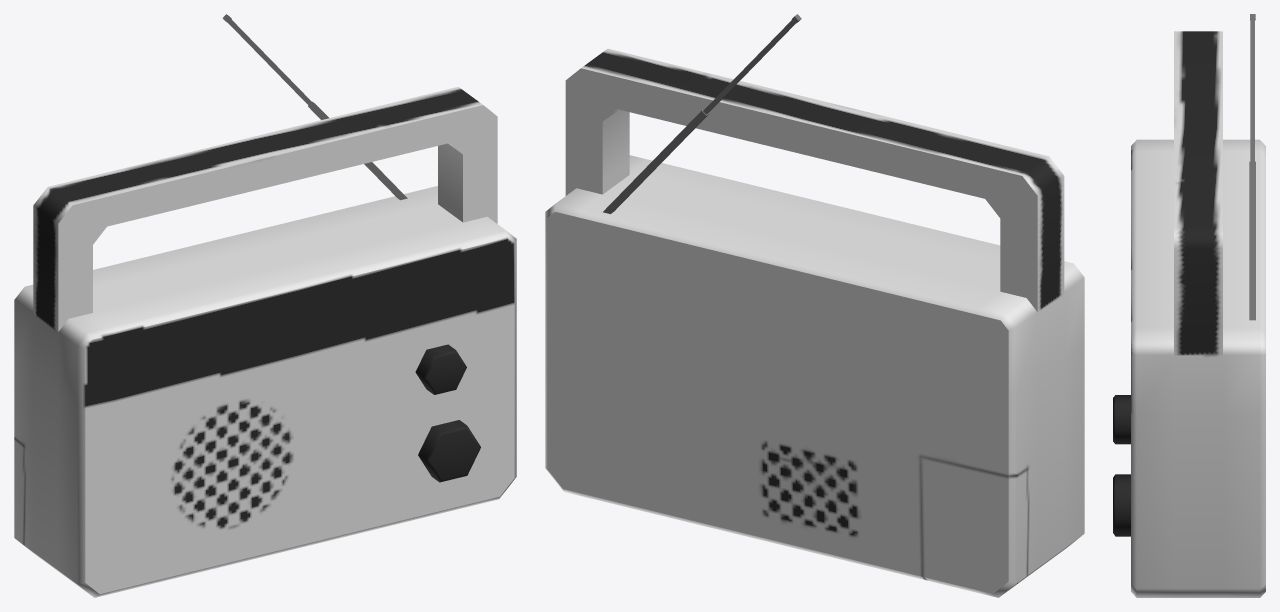
Rendered from Radio.fbx.
The picture shows the model from 3 angles, left to right: view 1: azimuth 30°, elevation 25°; view 2: azimuth 150°, elevation 25°; view 3: azimuth 270°, elevation 25°; orthographic projection. The views are drawn at different scales.
Visible parts, largest first — view 1: radio; view 2: radio; view 3: radio.
Part boxes in pixels (box(x1,y1,x2,y2)): radio: box(14, 14, 516, 597); radio: box(545, 14, 1084, 597); radio: box(1113, 14, 1265, 597).
Bounding box in the file's own units: 0.0216 × 0.0231 × 0.00664.
1 material, 1 textured.
